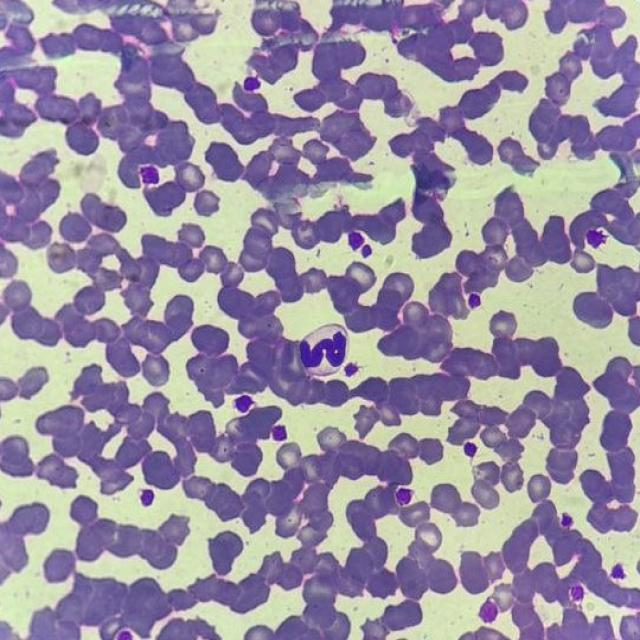Neutrofilo: (296, 323, 351, 378)
